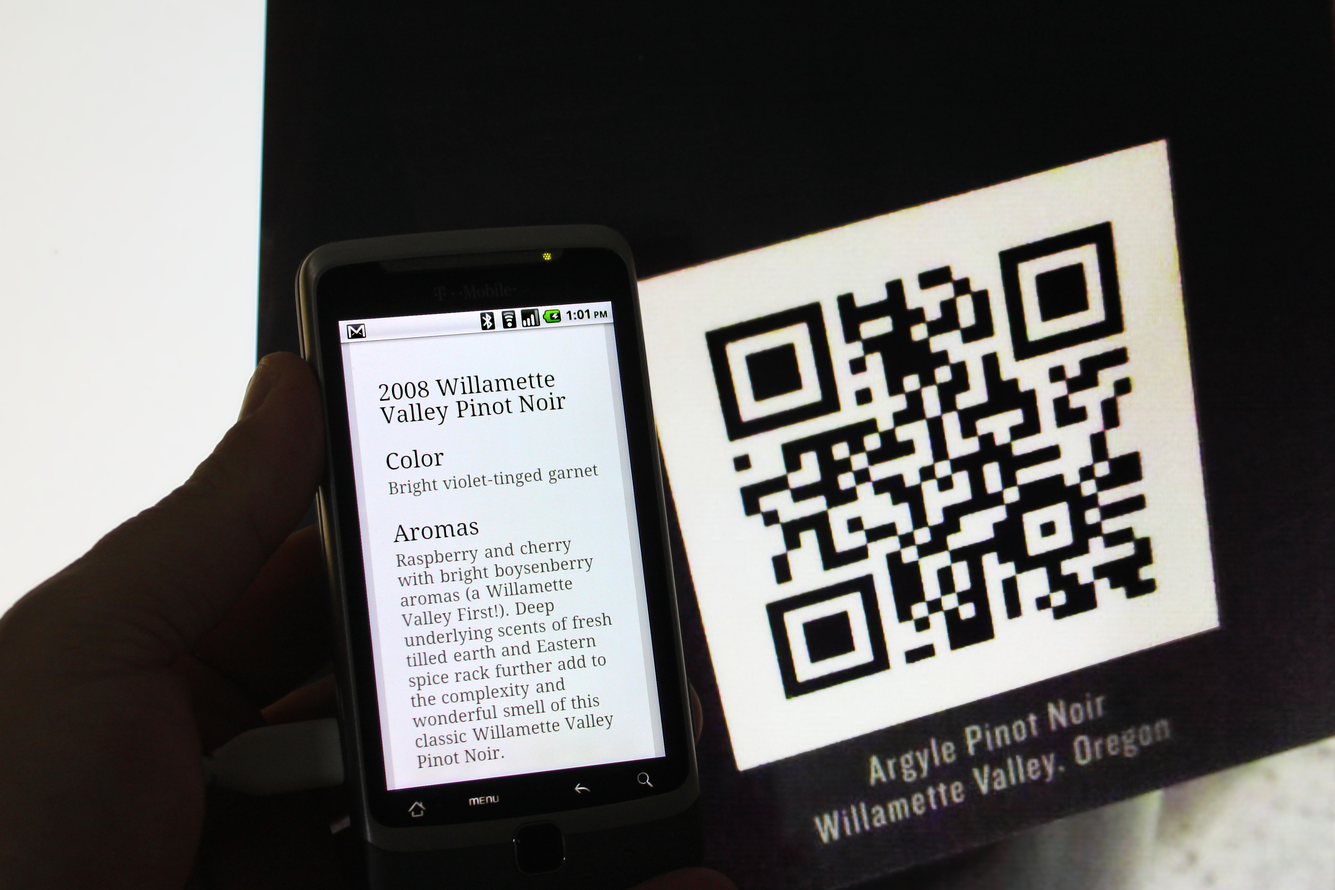QR-CODE: (705, 220, 1158, 699)
